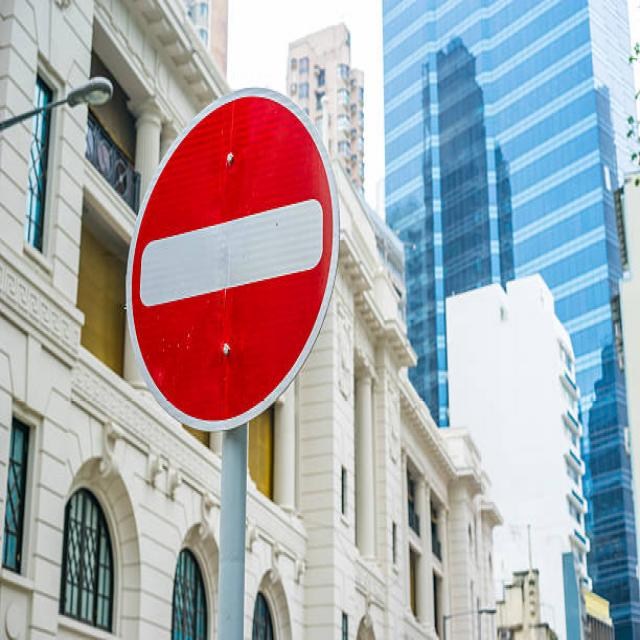do_not_enter: (117, 74, 345, 435)
